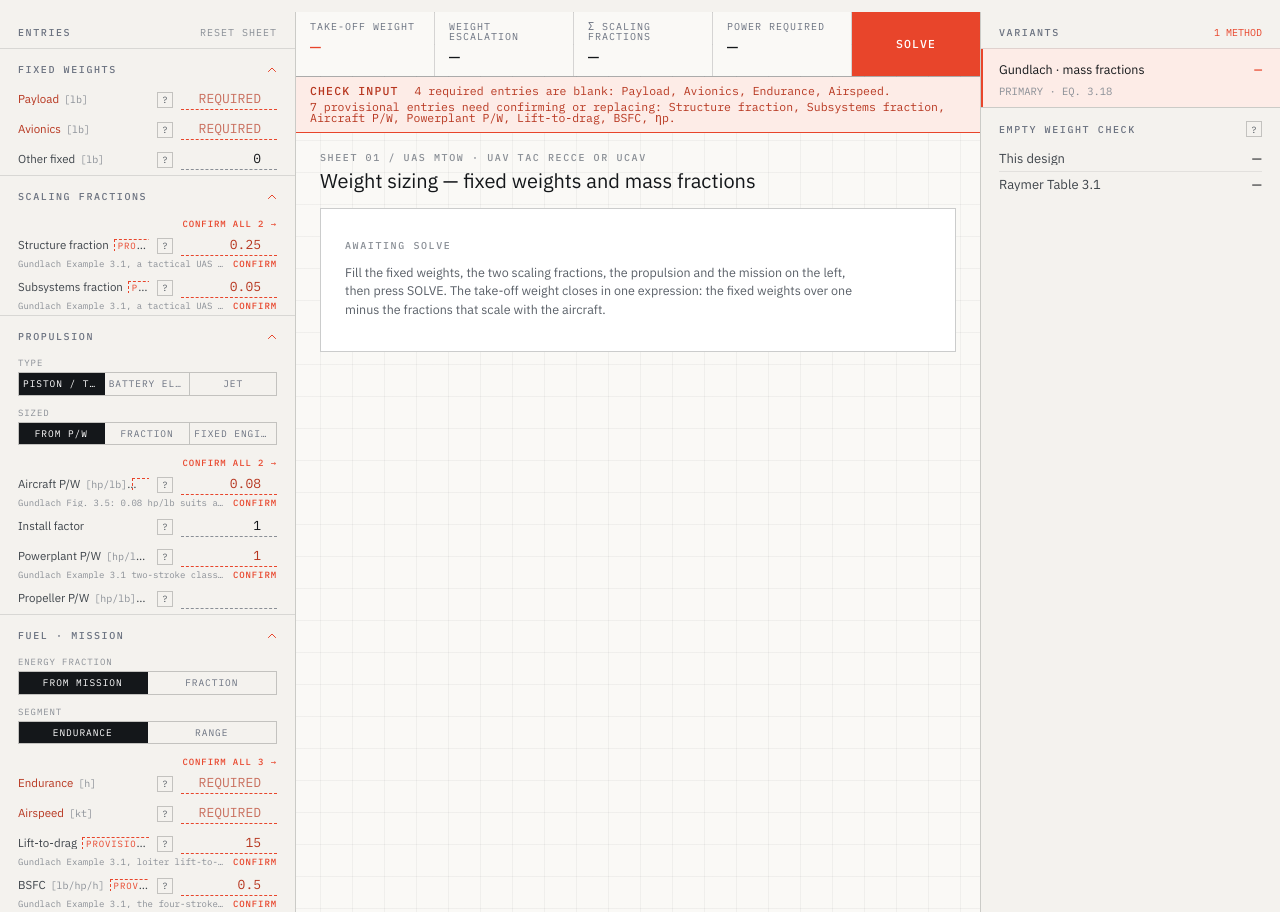
UasSizing › says where a seed came from
Hover over the button with test id "help-uas-structureFraction" at (165, 246), box [157,238,173,254]
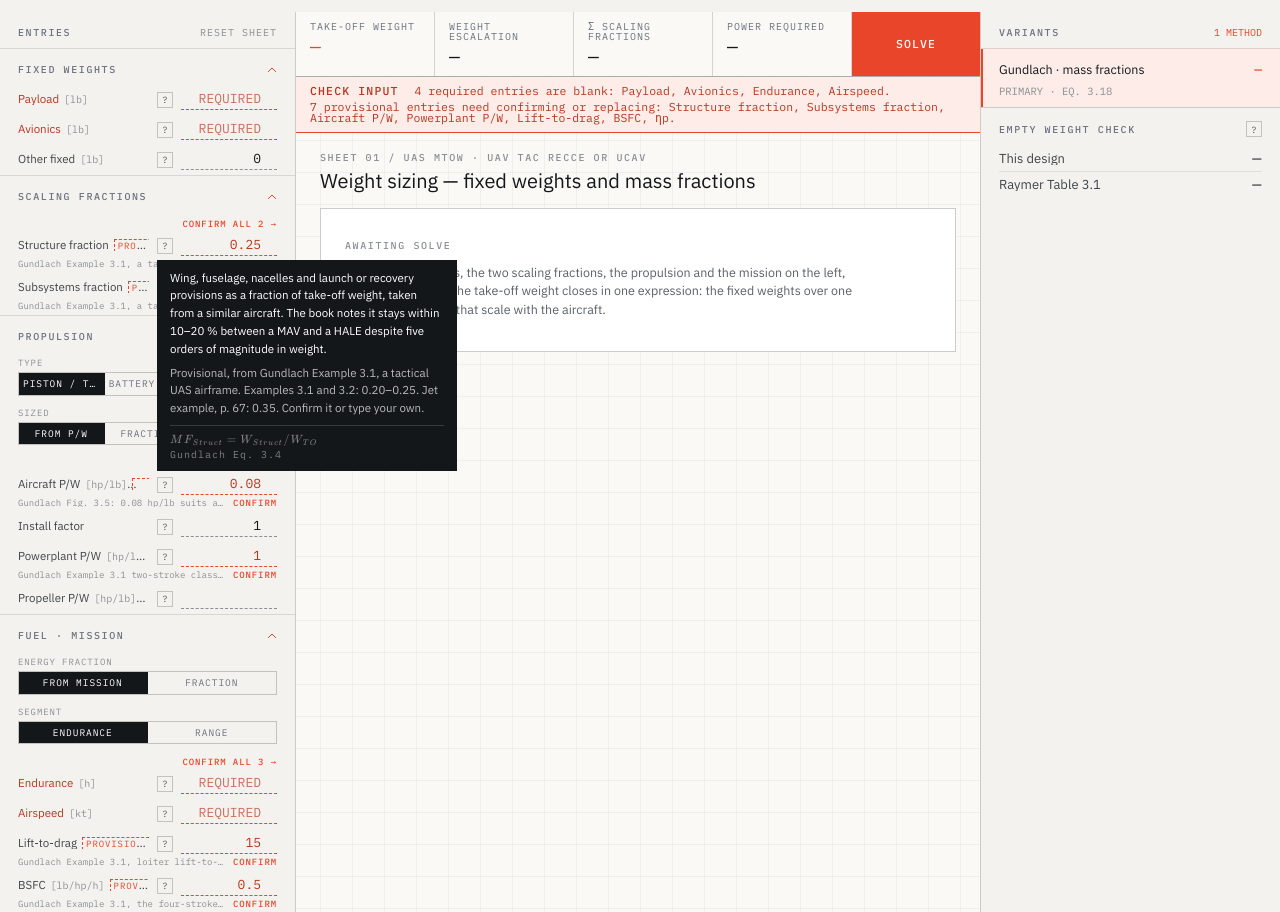
Expected: the text "Provisional, from Gundlach Example 3.1" is shown, [170,365,438,415]
